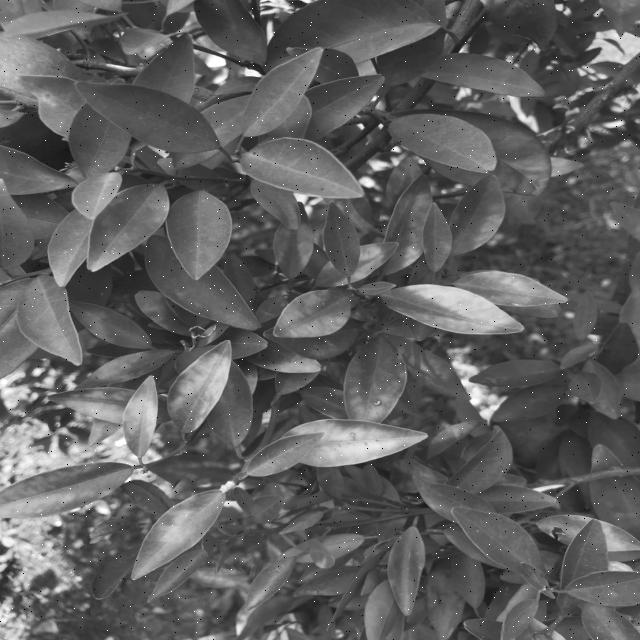greening: (0, 458, 133, 516), (281, 418, 426, 466), (136, 490, 222, 568), (416, 286, 514, 339), (173, 344, 229, 426), (123, 382, 164, 452)
